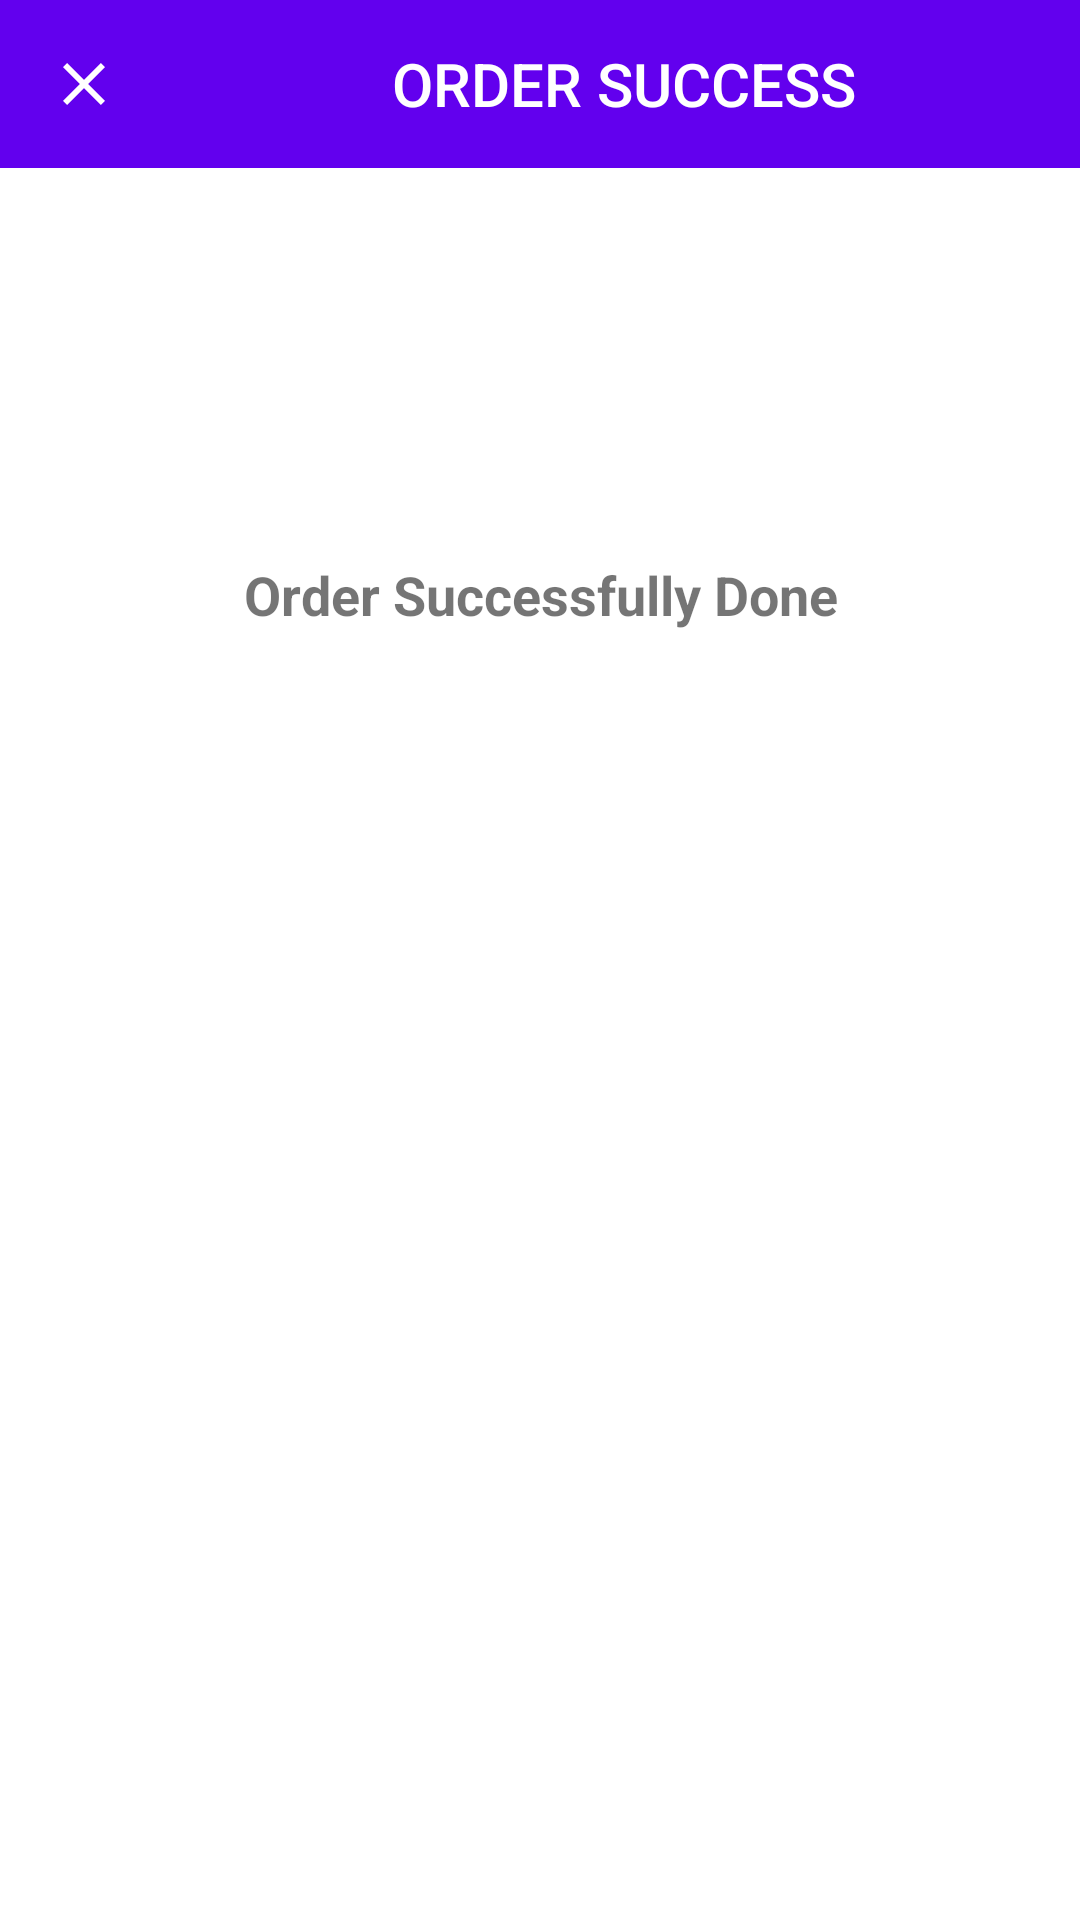

Named icons in this screenshot (1080*1920) and their bounding boxes, [x1, y1, x2, y2]:
close: [63, 63, 105, 105]
